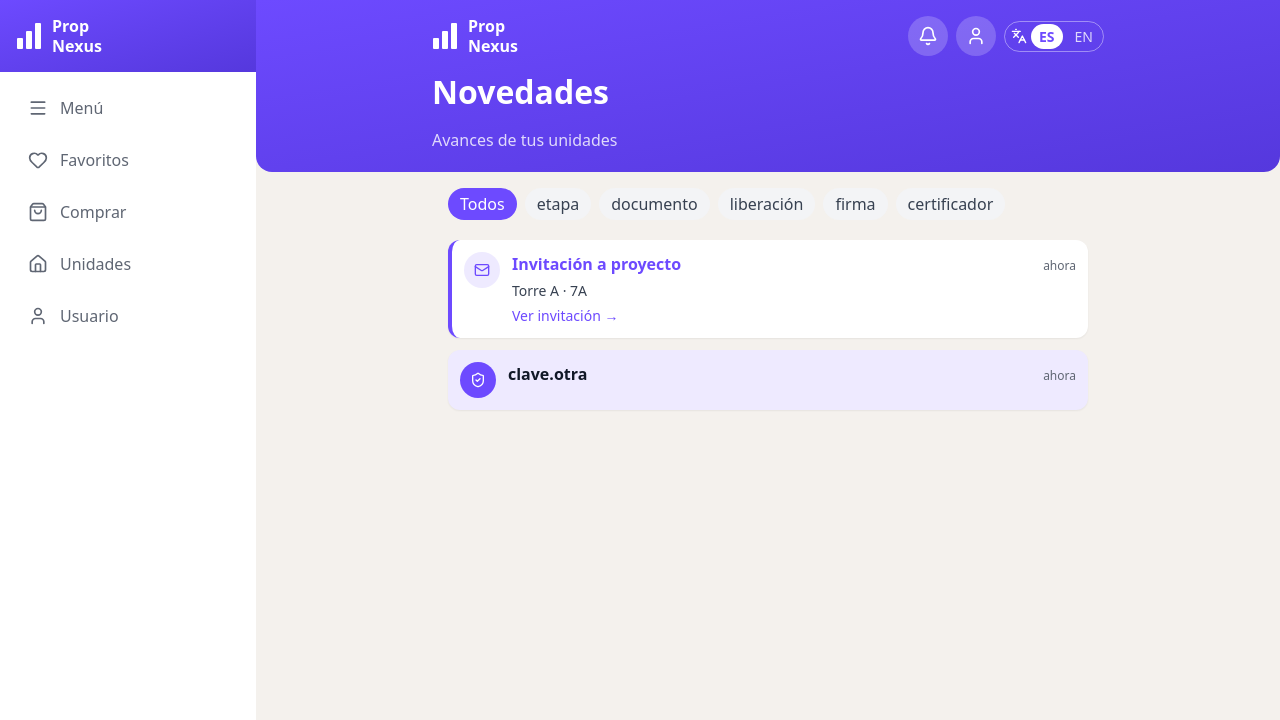
Test case: /investor/notifications › la invitación que llega como notificación (sin link) › una pendiente se fija arriba como InvitationCard; abrirla marca leída la notificación
Expected: the button "Invitación a proyecto ahora Torre A · 7A Ver invitación →" is shown, [448,240,1088,338]
Expected: the text "clave.otra" is shown, [508,362,587,386]
Click the text "Ver invitación →". click: (565, 316)
box: [512,306,618,325]
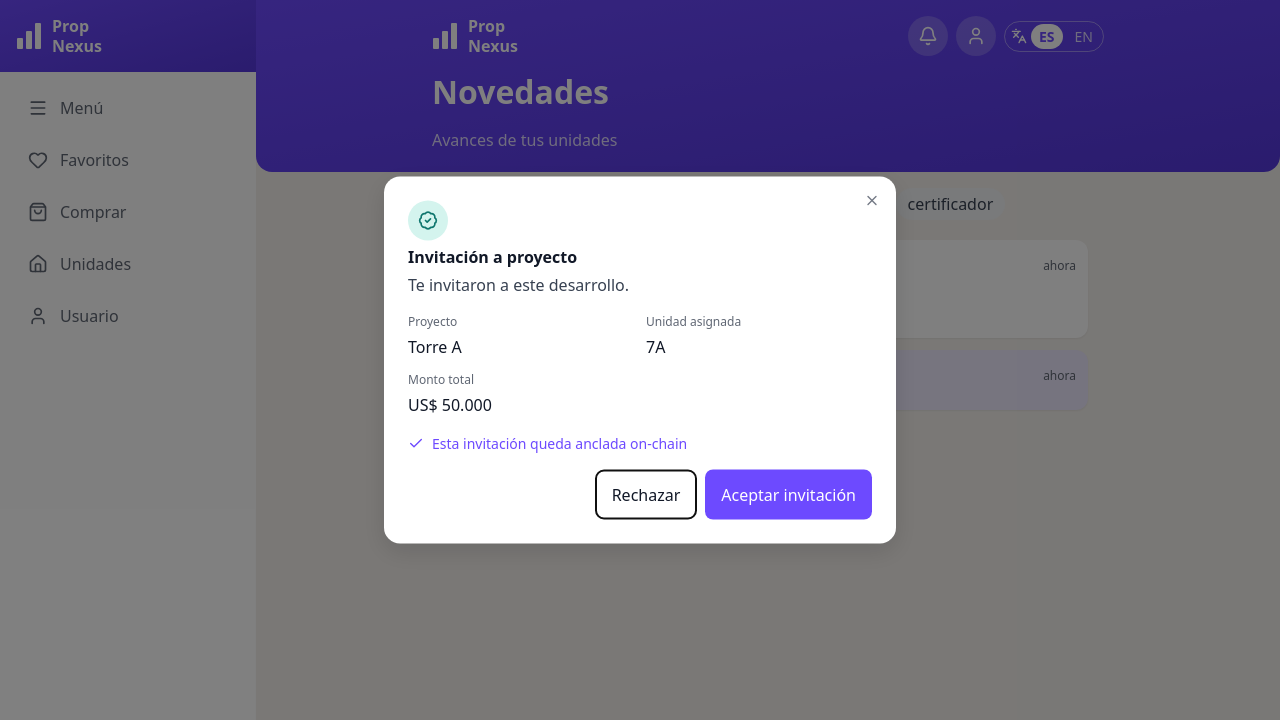
Expected: the dialog with test id "INV-INVITE-VIEW-001" shows "7A", [646,336,665,358]
